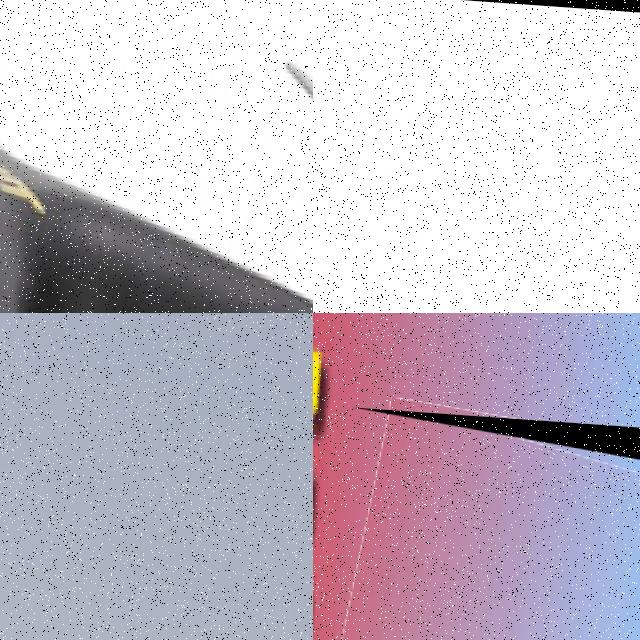drone: (0, 0, 313, 313), (315, 406, 640, 640)
